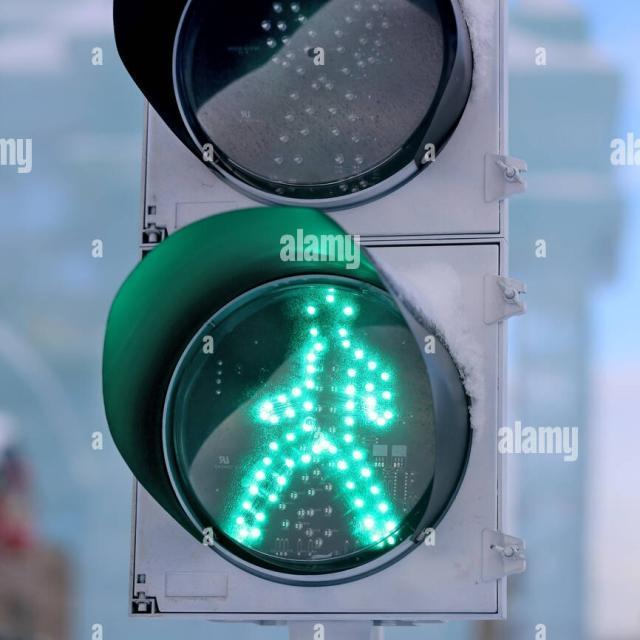geen-crossing: (254, 283, 404, 553)
